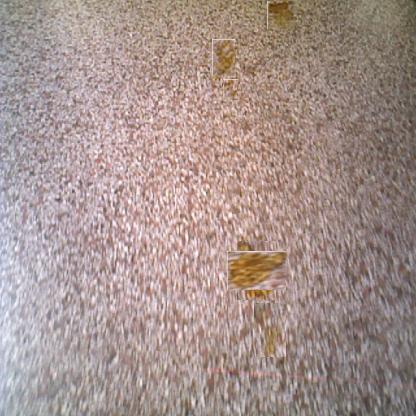liquid: (232, 246, 281, 295), (254, 303, 286, 357), (212, 39, 235, 76), (267, 1, 294, 29), (222, 79, 238, 100)
